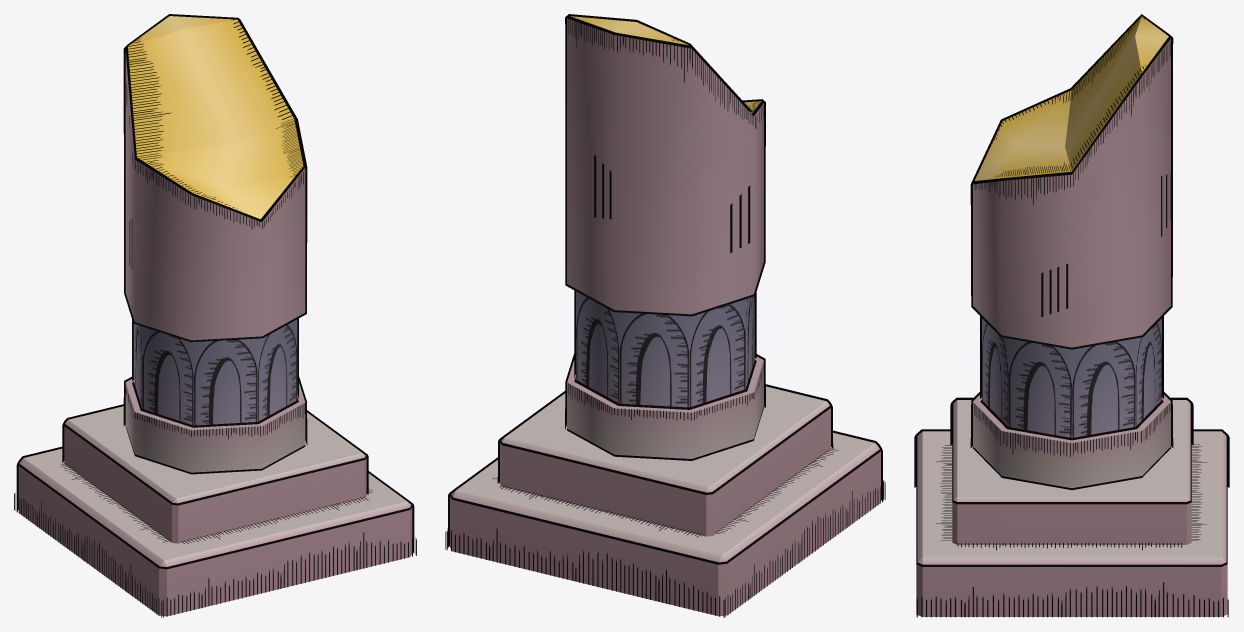
The model's file is pm-column-small-broken-01.glb.
3 views of the same model, side by side, from view 1: azimuth 30°, elevation 25°; view 2: azimuth 150°, elevation 25°; view 3: azimuth 270°, elevation 25° (orthographic). The views are drawn at different scales.
Parts seen in each view (by area): view 1: Column_SmallBroken_01; view 2: Column_SmallBroken_01; view 3: Column_SmallBroken_01.
Part boxes in pixels (left/top/right/bottom): Column_SmallBroken_01: left=14, top=14, right=416, bottom=617; Column_SmallBroken_01: left=445, top=14, right=885, bottom=617; Column_SmallBroken_01: left=914, top=14, right=1229, bottom=617.
Bounding box in the file's own units: 1.01 × 1.83 × 1.01.
3 materials, 2 textured.
